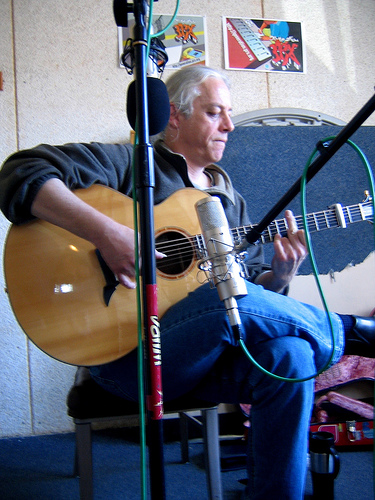guitar: (4, 182, 375, 373)
